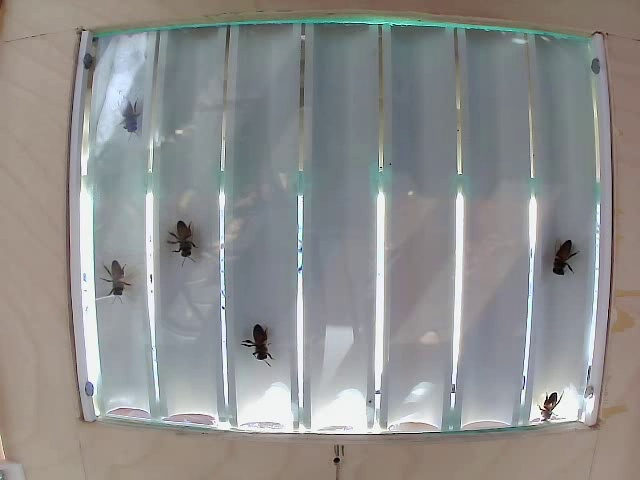bee: (104, 99, 158, 150), (240, 316, 279, 361), (166, 229, 202, 271), (548, 239, 578, 283), (93, 263, 134, 295)
